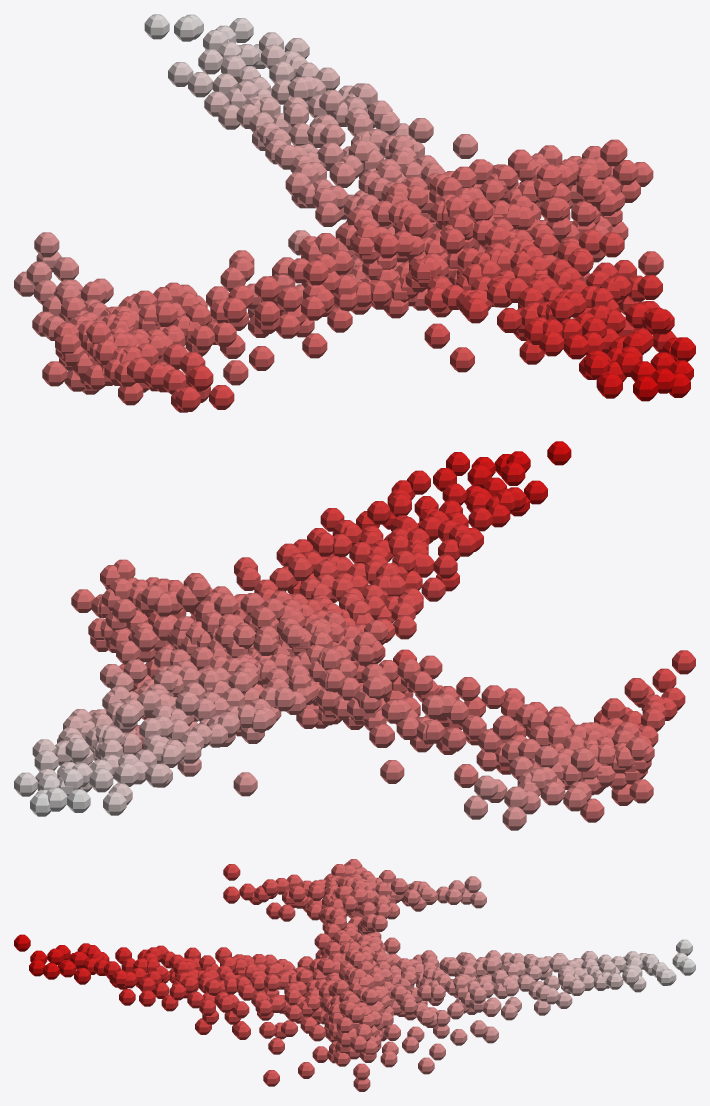
The model's file is pcn.obj.
The picture shows the model from 3 angles, top to bottom: view 1: azimuth 30°, elevation 25°; view 2: azimuth 150°, elevation 25°; view 3: azimuth 270°, elevation 25°; orthographic projection. The views are drawn at different scales.
Bounding box in the file's own units: 0.5285 × 0.1363 × 0.7739.
